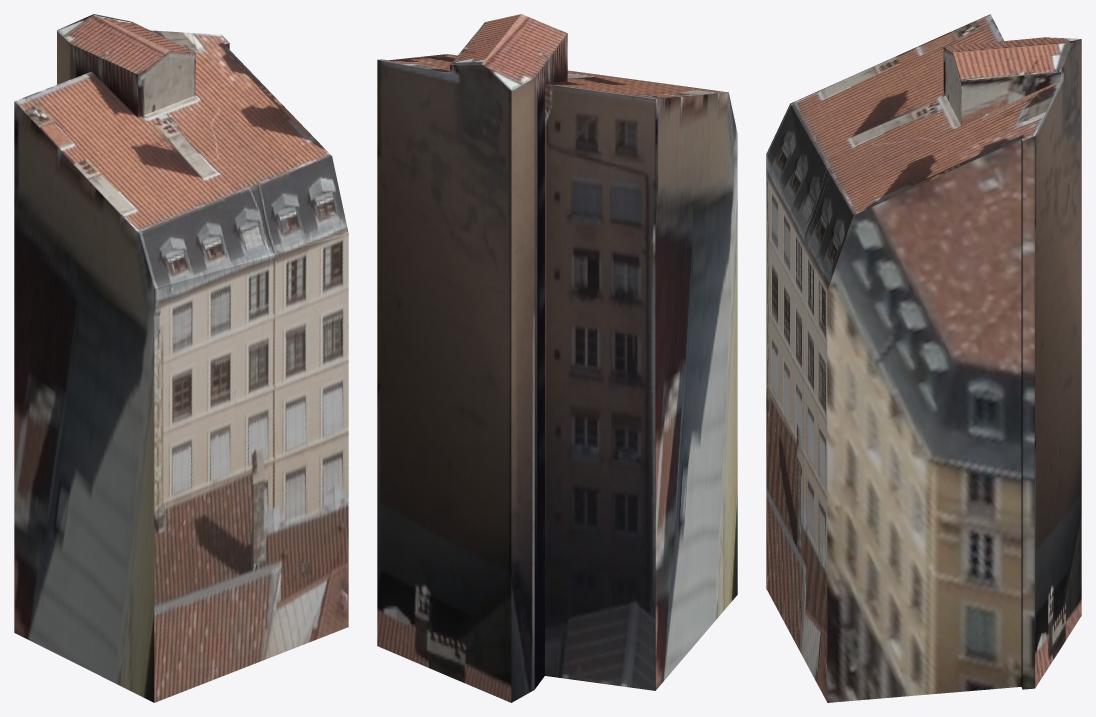
The picture shows the model from 3 angles, left to right: view 1: azimuth 30°, elevation 25°; view 2: azimuth 150°, elevation 25°; view 3: azimuth 270°, elevation 25°; orthographic projection. The views are drawn at different scales.
Visible parts, largest first — view 1: Z_UP; view 2: Z_UP; view 3: Z_UP.
Part boxes in pixels (x1,y1,x2,y2): Z_UP: [14, 14, 348, 702]; Z_UP: [377, 14, 737, 702]; Z_UP: [766, 14, 1081, 702].
Size of the model in its own units: 13.99 by 29.26 by 14.2.
2 materials, 1 textured.
